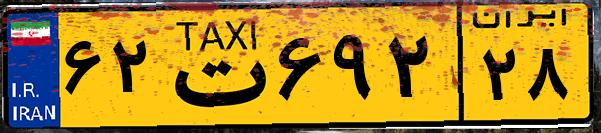2: (385, 28, 445, 110), (475, 38, 525, 113), (110, 28, 158, 98)
6: (270, 28, 330, 110), (57, 26, 110, 100)
8: (525, 38, 570, 115)
9: (330, 28, 385, 110)
ت: (158, 12, 270, 120)
